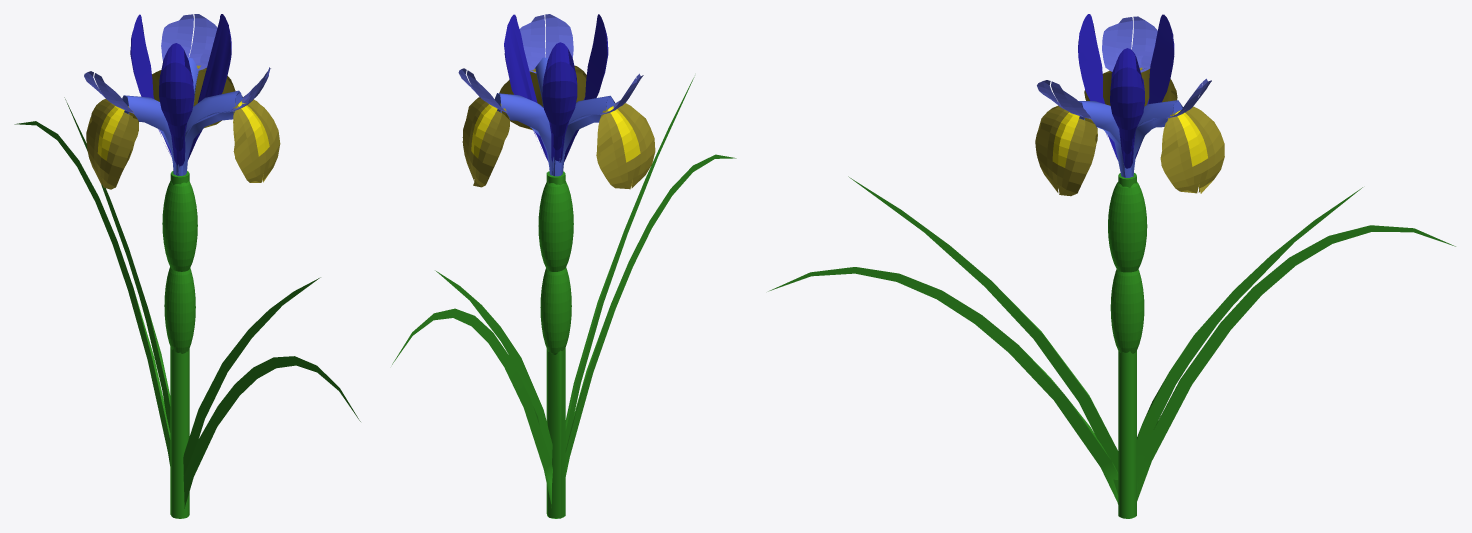
The model's file is iris.glb.
The picture shows the model from 3 angles, left to right: view 1: azimuth 30°, elevation 25°; view 2: azimuth 150°, elevation 25°; view 3: azimuth 270°, elevation 25°; orthographic projection.
Visible parts, largest first — view 1: iris-test; view 2: iris-test; view 3: iris-test.
Boxes of the visible parts, box(x1,y1,x2,y2) form: iris-test: box(14, 14, 360, 518); iris-test: box(392, 14, 736, 518); iris-test: box(768, 14, 1455, 518).
Bounding box in the file's own units: 0.172 × 0.5003 × 0.6404.
